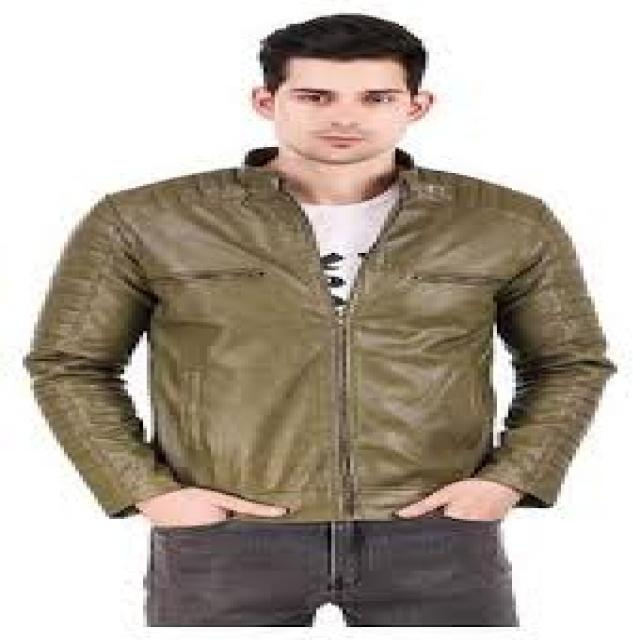Jacket: (22, 159, 624, 544)
